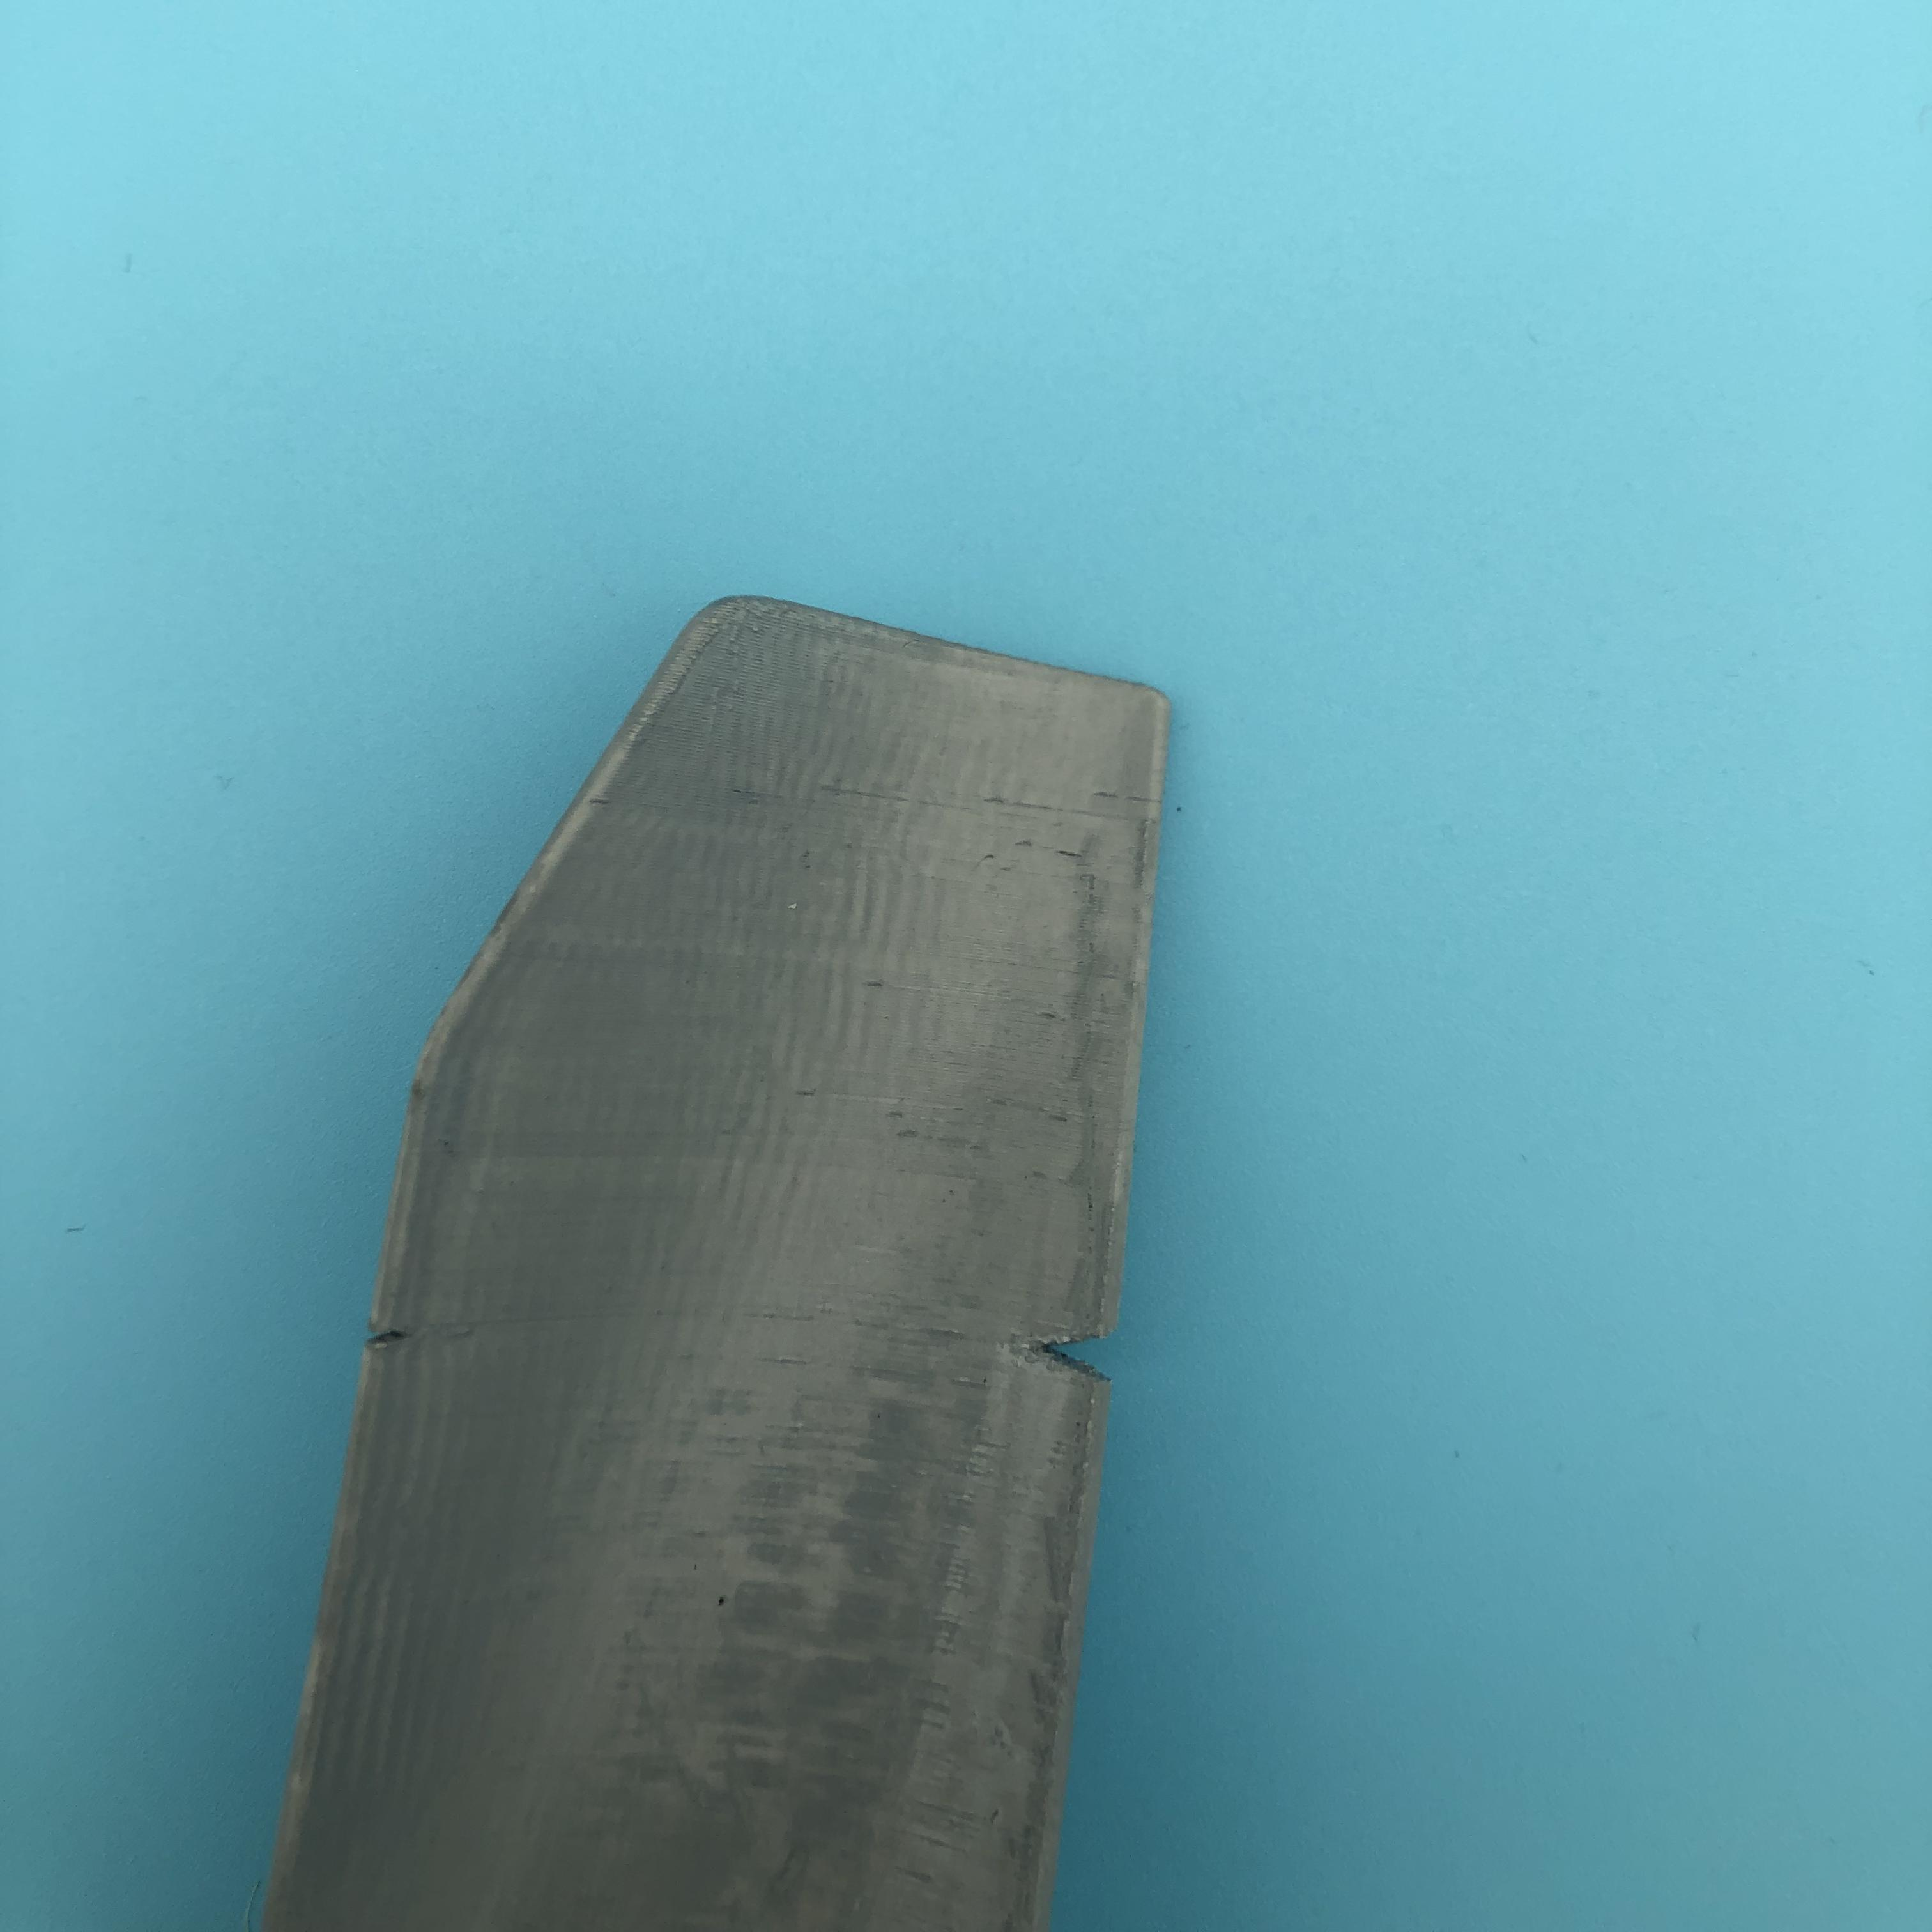groove: (1033, 1320, 1102, 1385), (370, 1320, 412, 1352)
